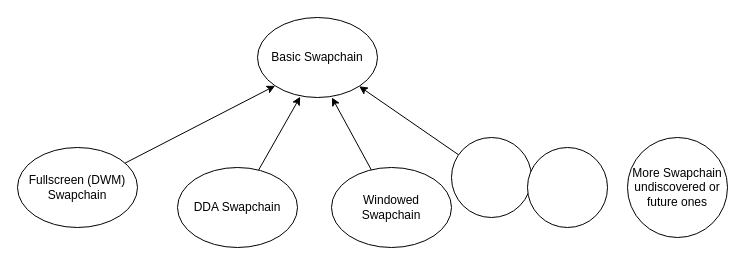
Some shapes in this 745 by 265 pixel diagram are drawn without their labels. The box of each missing label's shape, as (x1, y1, x2, y2) in pixels:
Composition Swapchain: (450, 136, 532, 218)
XAML Swapchain: (526, 146, 608, 228)
